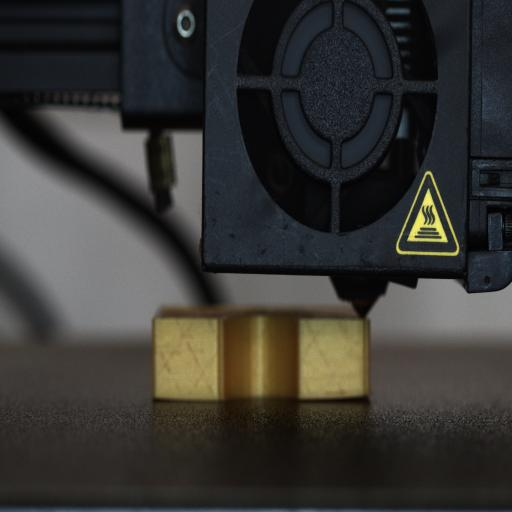warp: (341, 385, 375, 405), (150, 388, 175, 404)
